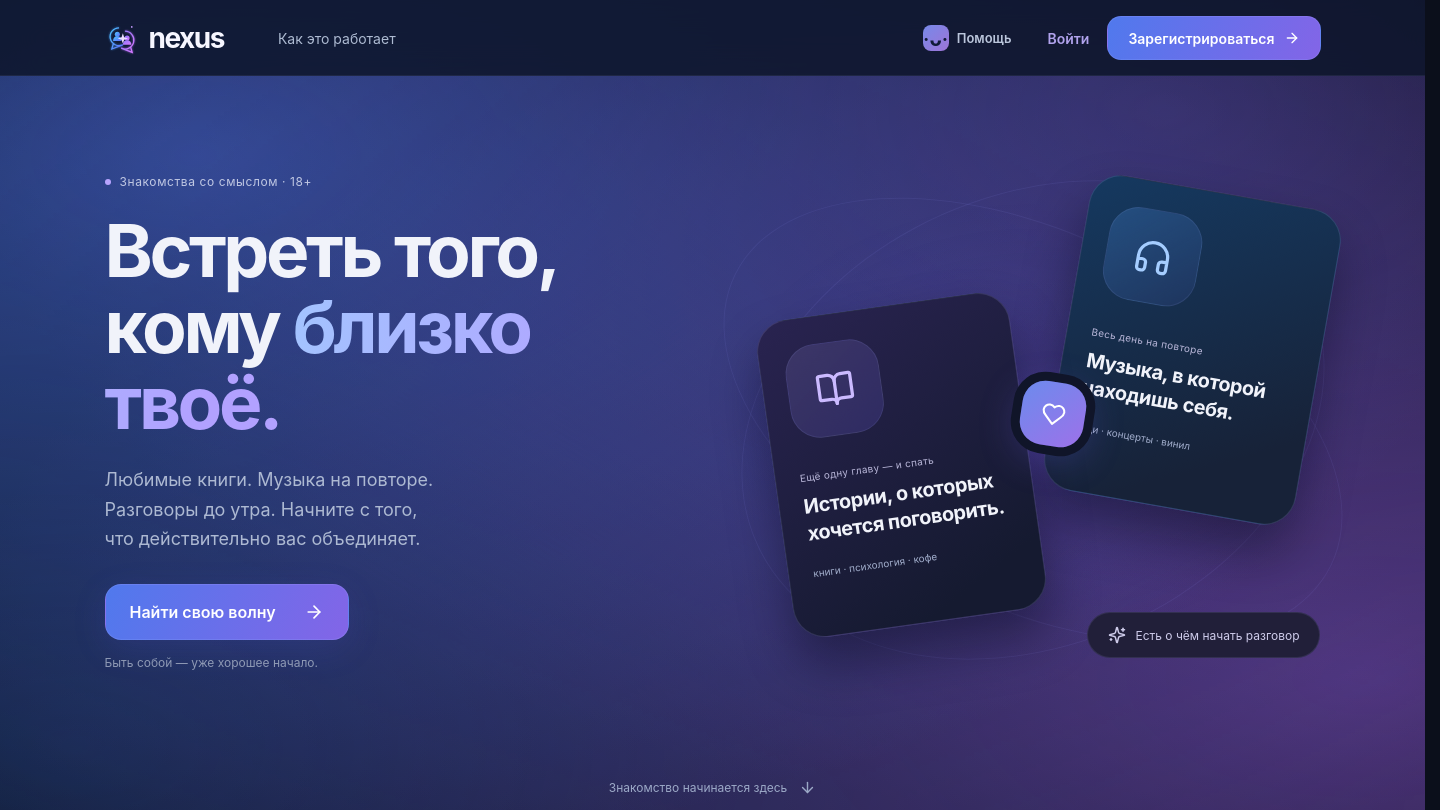
Test: Nexus user flows › Найти свою волну opens sign-in first and allows switching to signup and back
The width and height of the screenshot is (1440, 810).
Step 1. Click the button "Найти свою волну" → [227, 612], box [104,584,349,640]
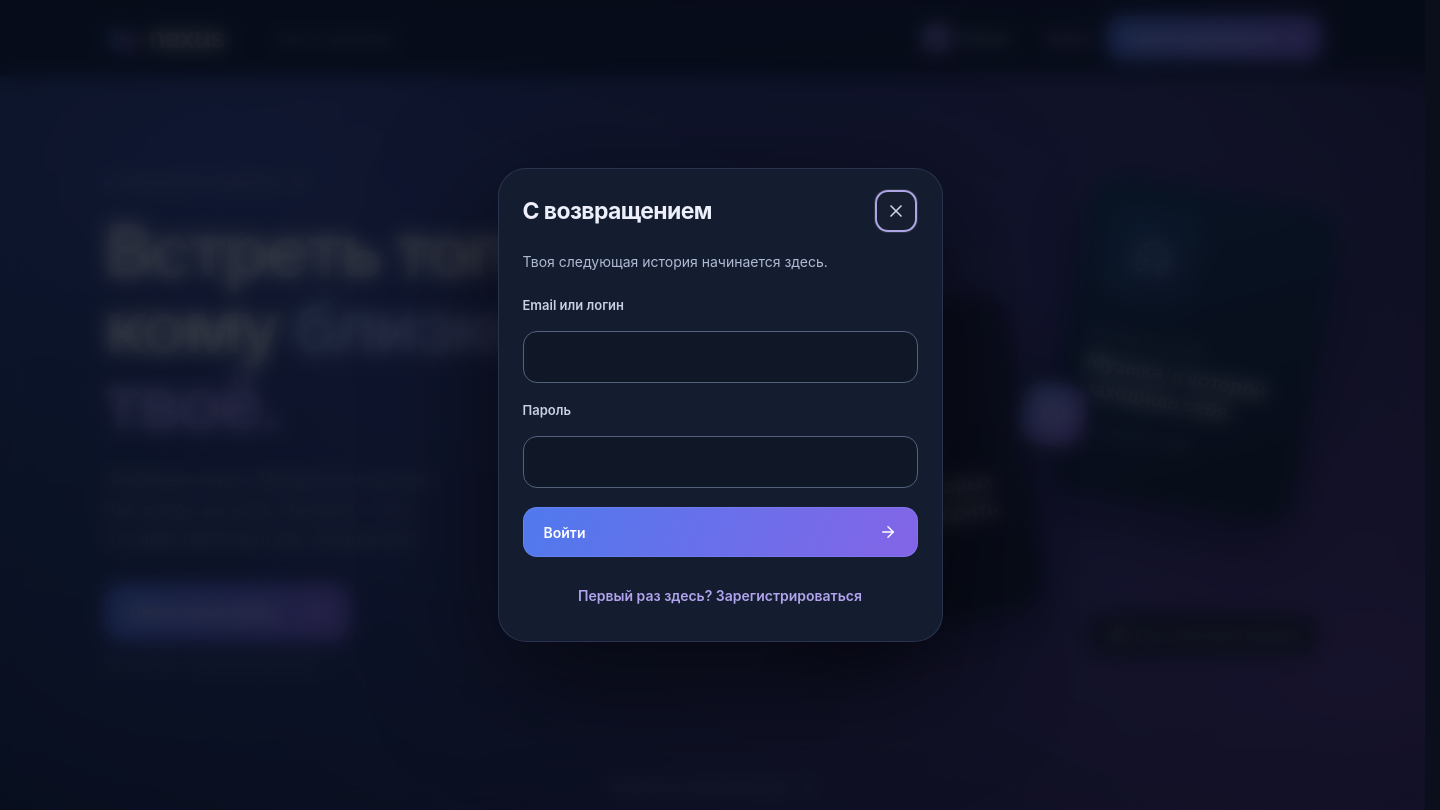
Expected: the field labelled "Повтори пароль" is not shown
Expected: the dialog "С возвращением" is shown, [498,168,942,642]
Expected: the field labelled "Email или логин" is shown, [522,331,918,383]
Step 2. Click the button "Первый раз здесь? Зарегистрироваться" → [720, 595], box [522,573,918,617]
(page scrolled)
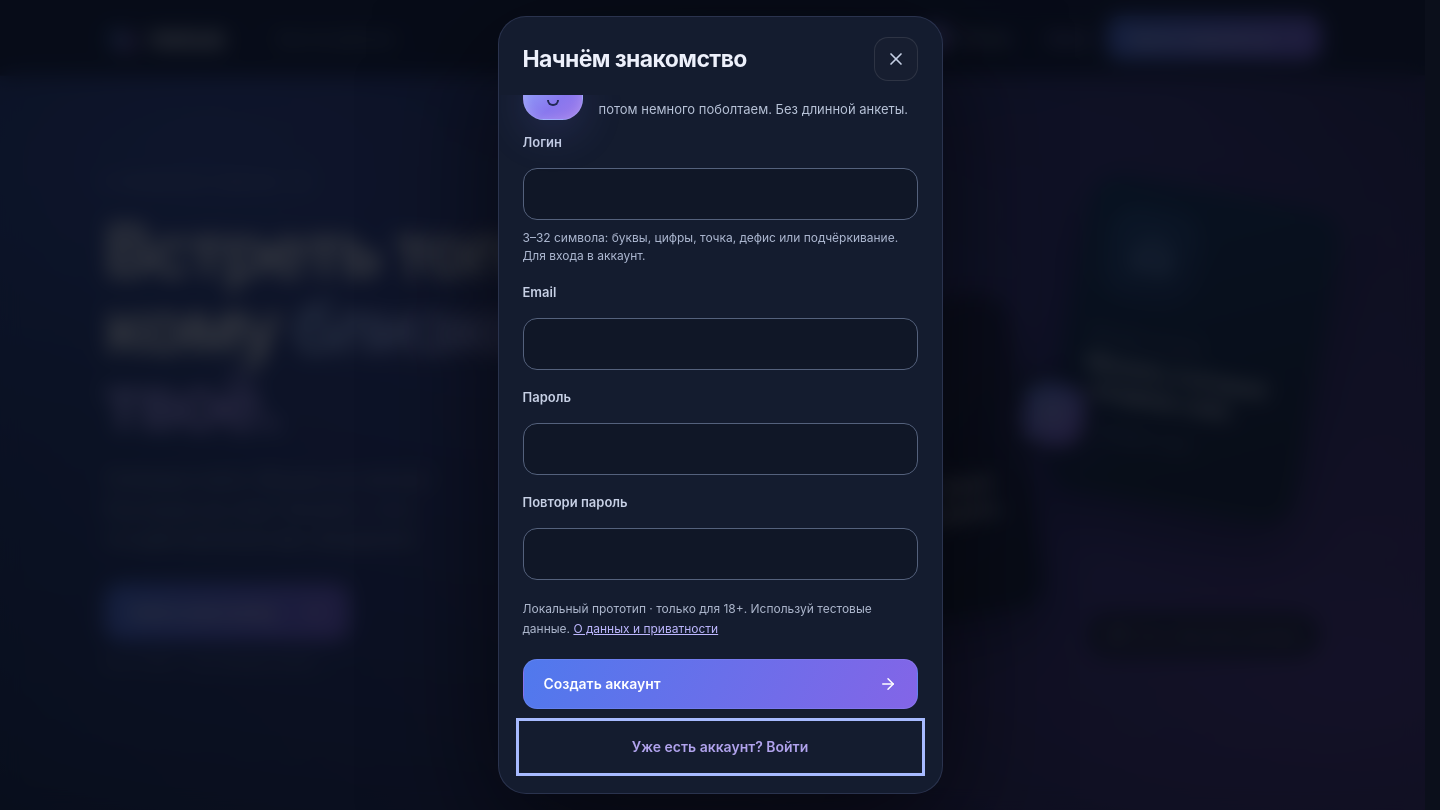
Expected: the dialog "Начнём знакомство" is shown, [498,16,942,794]
Expected: the password field labelled "Повтори пароль" is shown, [522,528,918,580]
Step 3. Click the button "Уже есть аккаунт? Войти" → [720, 747], box [522,725,918,769]
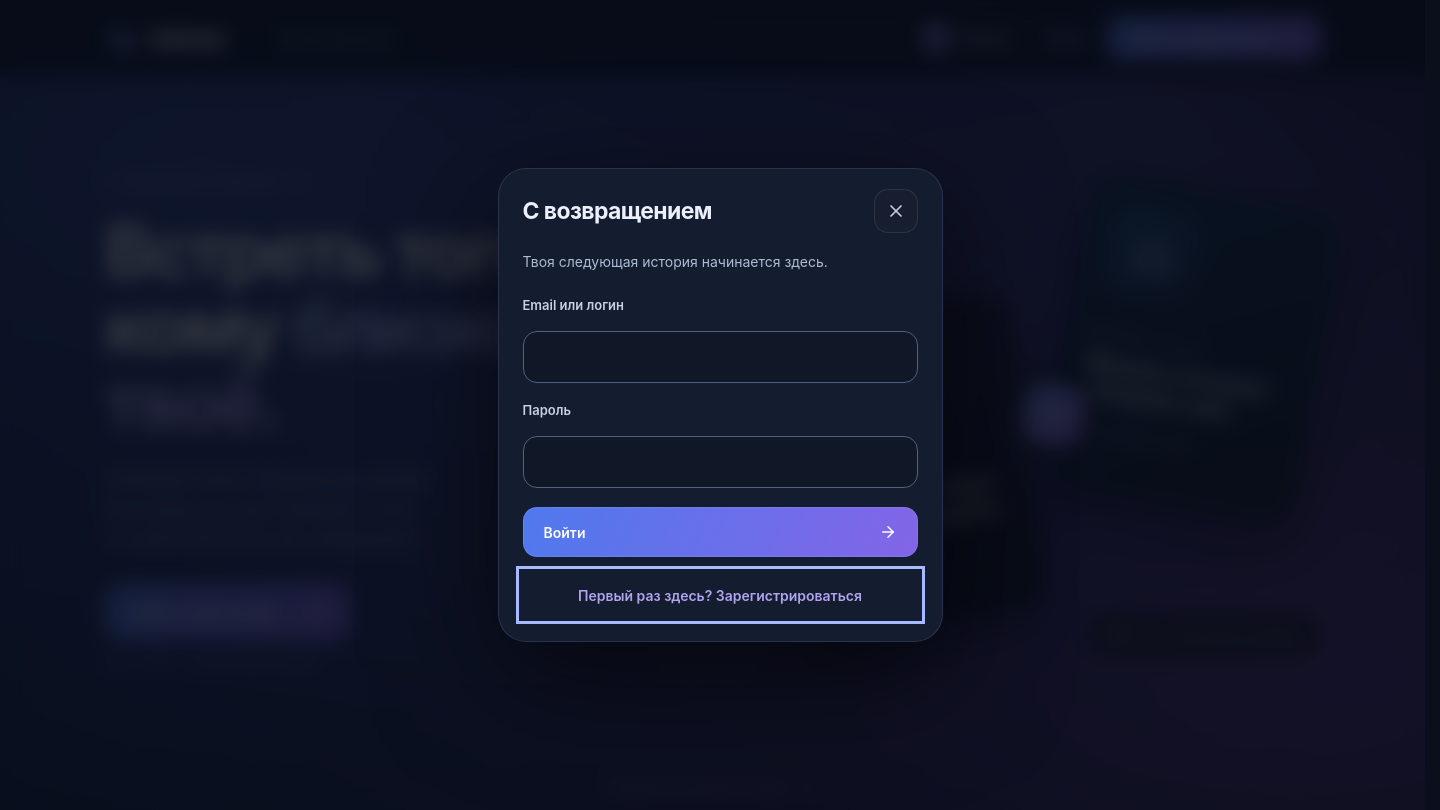
Expected: the dialog "С возвращением" is shown, [498,168,942,642]
